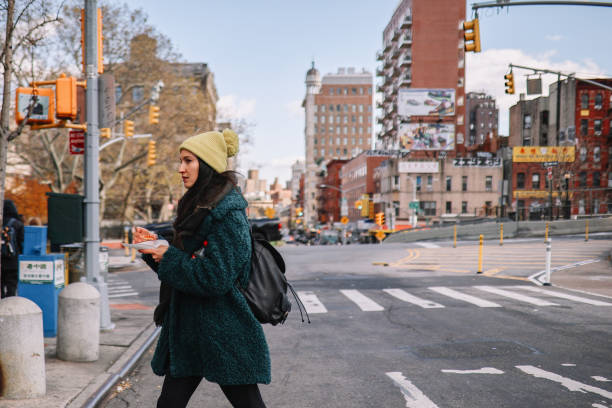yaya: (106, 109, 304, 407)
